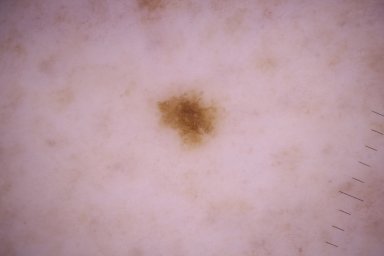melanoma: (156, 91, 224, 148)
